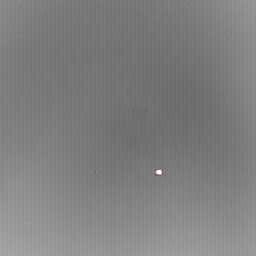Target: (155, 168, 164, 177)
